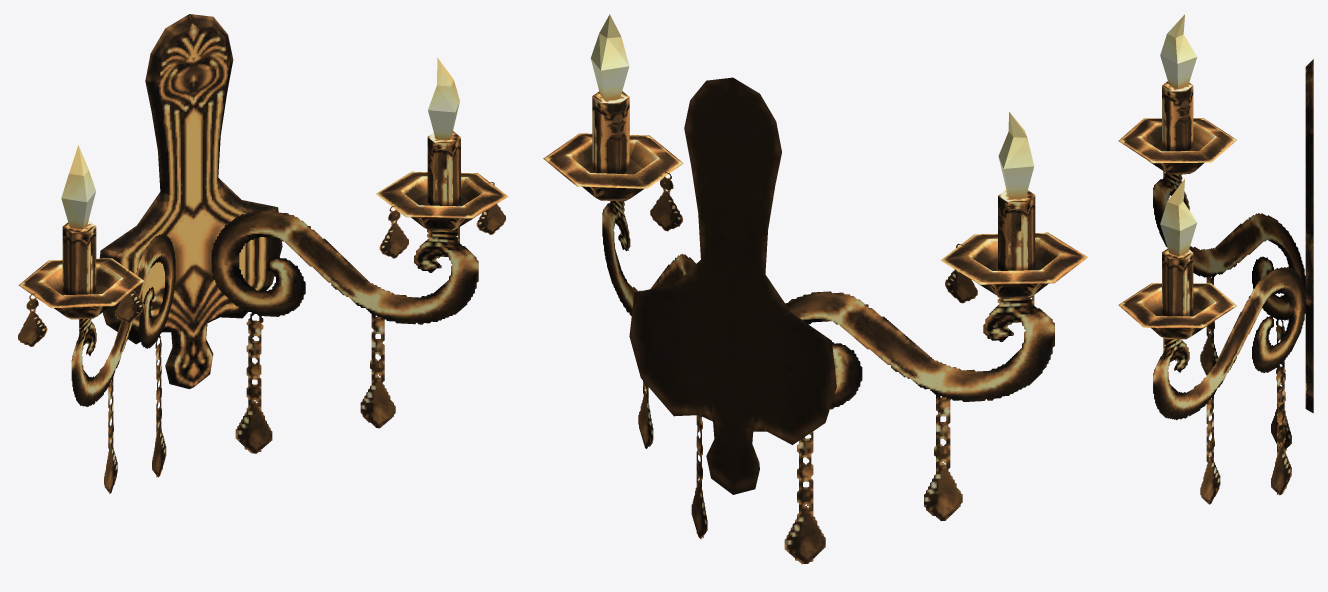
File: furni_0200705.FBX
3 views of the same model, side by side, from view 1: azimuth 30°, elevation 25°; view 2: azimuth 150°, elevation 25°; view 3: azimuth 270°, elevation 25° (orthographic). The views are drawn at different scales.
Parts seen in each view (by area): view 1: furni_0200705; view 2: furni_0200705; view 3: furni_0200705.
Part boxes in pixels (<box>): furni_0200705: <box>18,14,508,493</box>; furni_0200705: <box>543,14,1087,564</box>; furni_0200705: <box>1118,14,1313,504</box>.
Size of the model in its own units: 104 by 90.05 by 37.95.
1 material, 1 textured.
